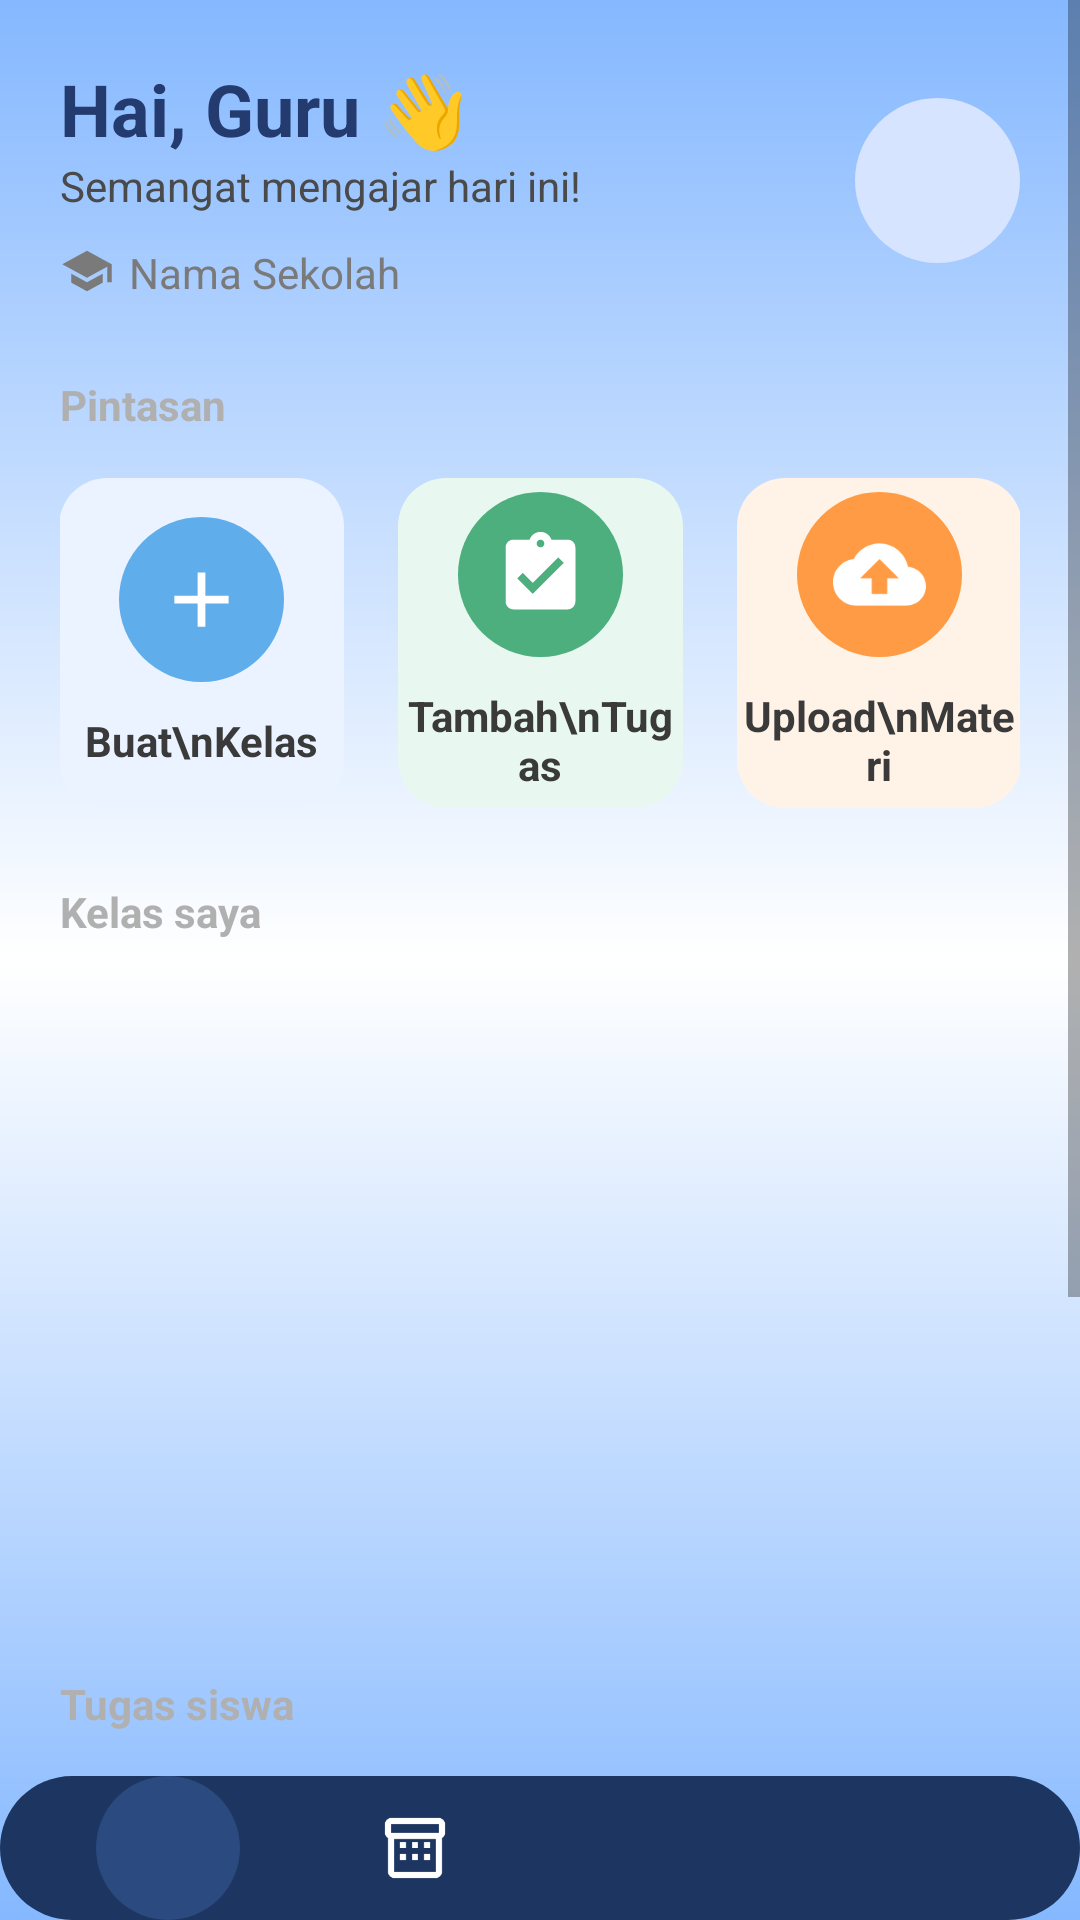

Point at icon controls on the screen. Image size 1080w x 1920h, points as point (x, y).
add: point (201, 599)
school: point (87, 271)
task: point (540, 574)
